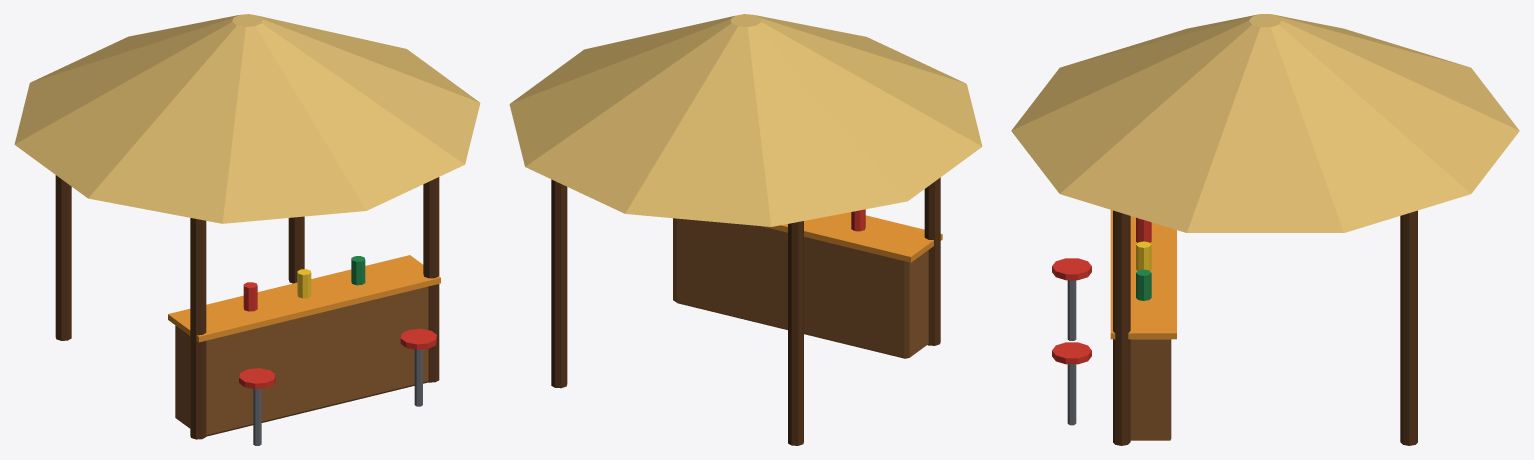
Rendered from kiosk.glb.
The picture shows the model from 3 angles, left to right: view 1: azimuth 30°, elevation 25°; view 2: azimuth 150°, elevation 25°; view 3: azimuth 270°, elevation 25°; orthographic projection. The views are drawn at different scales.
Visible parts, largest first — view 1: Cylinder; view 2: Cylinder; view 3: Cylinder.
Part boxes in pixels (x1,y1,x2,y2): Cylinder: [14, 14, 480, 445]; Cylinder: [509, 14, 982, 445]; Cylinder: [1011, 14, 1519, 445].
Bounding box in the file's own units: 4.37 × 3.6 × 4.6.
